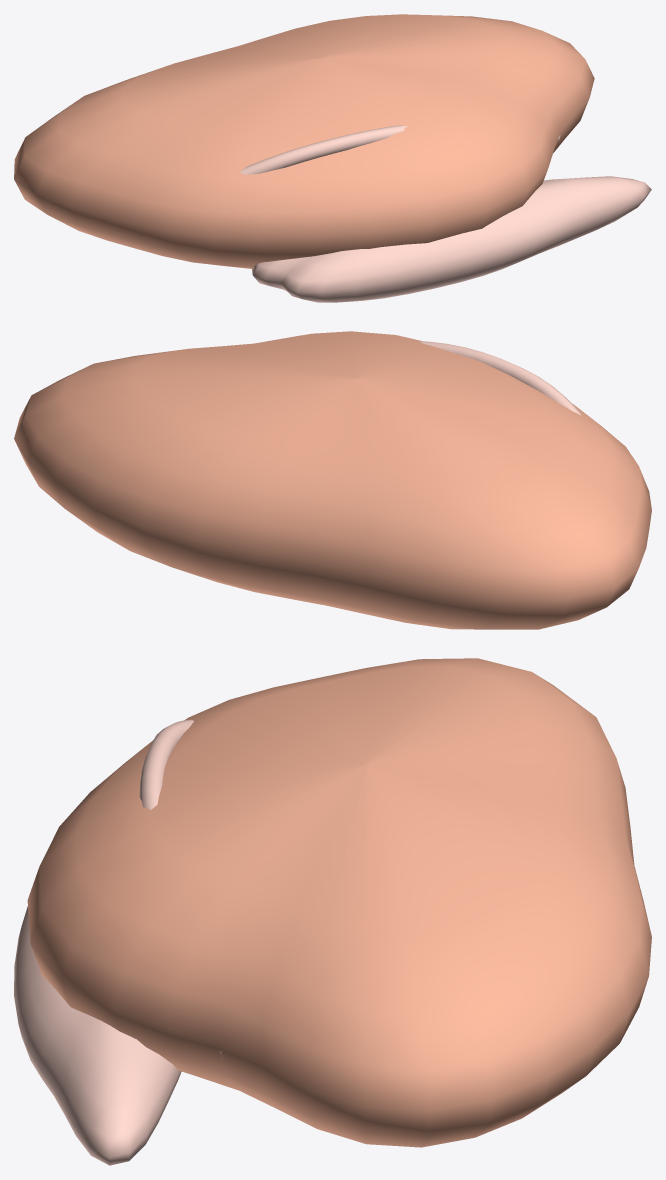
File: chicken-breast.glb
3 renders of one model, top to bottom at view 1: azimuth 30°, elevation 25°; view 2: azimuth 150°, elevation 25°; view 3: azimuth 270°, elevation 25°, orthographic. The views are drawn at different scales.
Visible parts, largest first — view 1: chicken-breast_mesh; view 2: chicken-breast_mesh; view 3: chicken-breast_mesh.
Part boxes in pixels (x1,y1,x2,y2): chicken-breast_mesh: (14,14,651,302); chicken-breast_mesh: (14,331,651,629); chicken-breast_mesh: (14,658,651,1165).
Size of the model in its own units: 0.2387 by 0.0725 by 0.1554.
